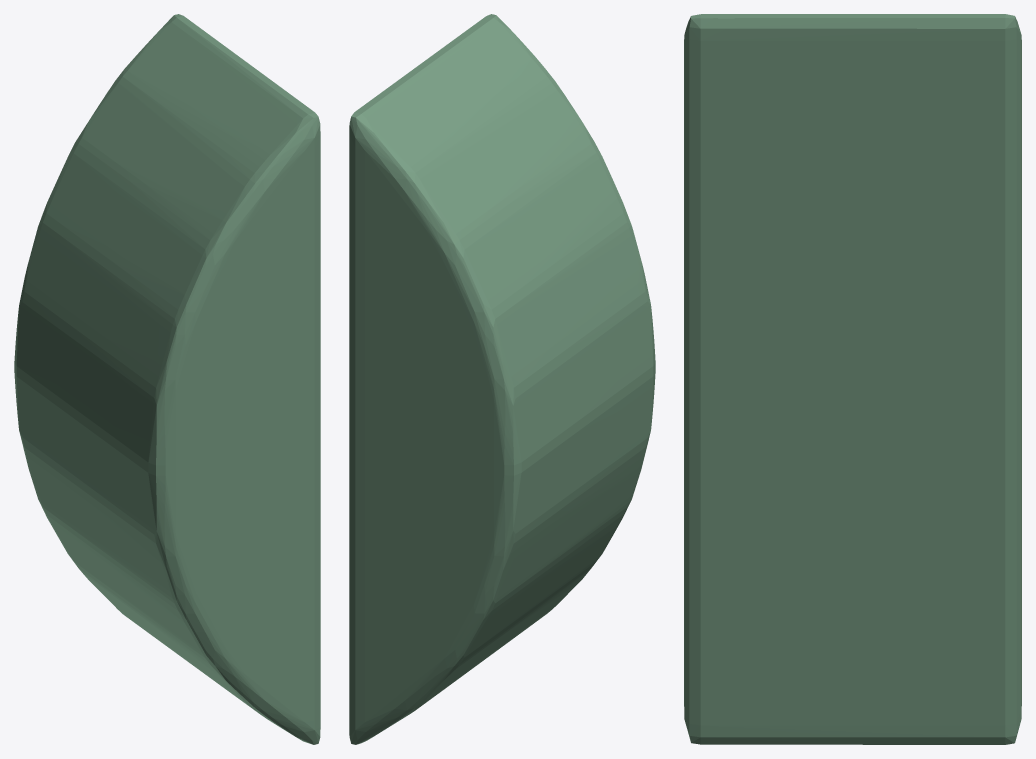
Rendered from left_forearm_collision_part_0.obj.
3 views of the same model, side by side, from view 1: azimuth 30°, elevation 25°; view 2: azimuth 150°, elevation 25°; view 3: azimuth 270°, elevation 25° (orthographic). The views are drawn at different scales.
Bounding box in the file's own units: 32.09 × 113 × 47.76.
